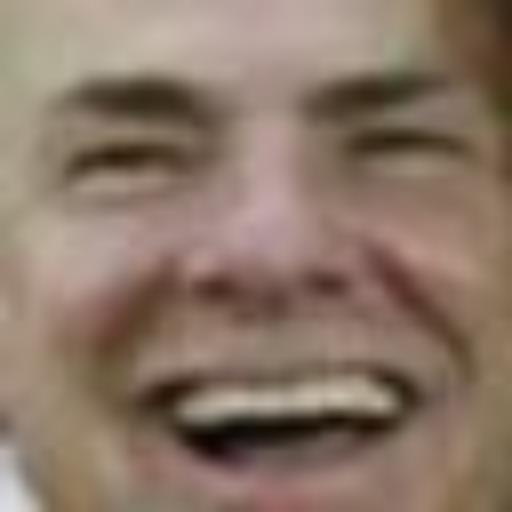left_eye: (341, 115, 468, 179)
left_lip_corner: (387, 373, 446, 432)
right_eye: (66, 135, 198, 188)
right_lip_corner: (123, 375, 181, 431)
